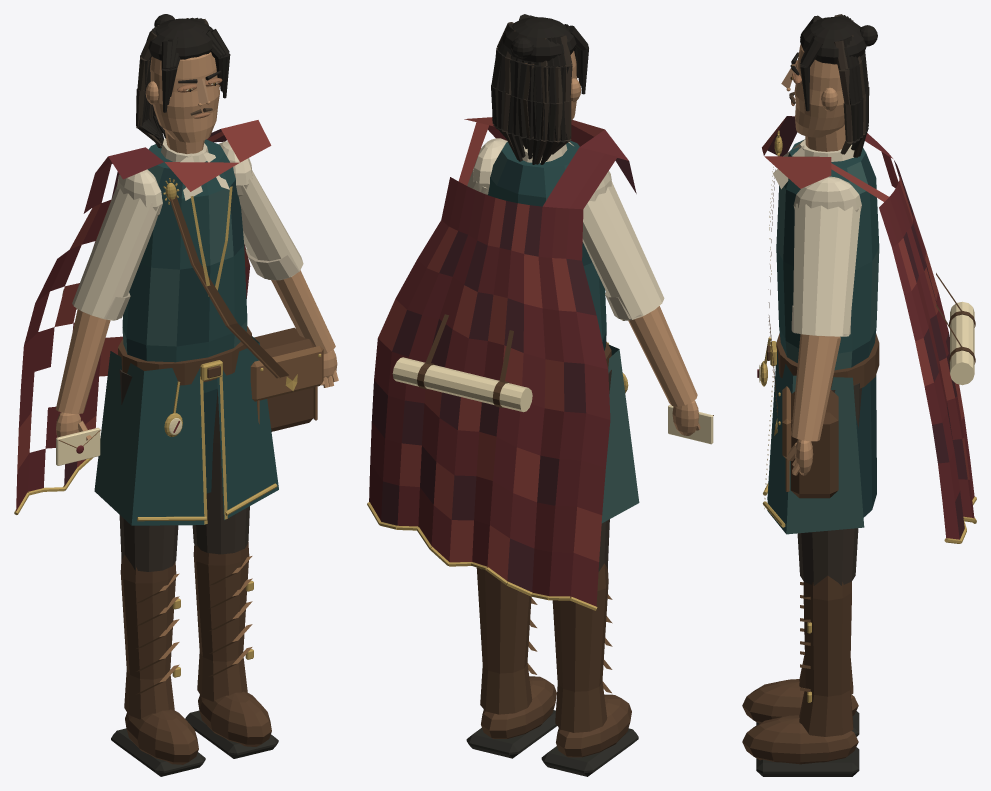
The model's file is human-courier.glb.
3 renders of one model, left to right at view 1: azimuth 30°, elevation 25°; view 2: azimuth 150°, elevation 25°; view 3: azimuth 270°, elevation 25°, orthographic. The views are drawn at different scales.
Visible parts, largest first — view 1: Waistcoat, Split_coat_R, Cloak_folds, Boot_shaft_R, Boot_shaft_L, Split_coat_L, Linen_sleeve_R, Face, Forearm_R, Linen_sleeve_L, Trouser_thigh_L, Boot_toe_R (+15 smaller); view 2: Cloak_folds, Boot_shaft_R, Boot_shaft_L, Linen_sleeve_R, Waistcoat, Split_coat_R, Map_roll, Forearm_R, Boot_toe_R, Boot_toe_L, Hair_crown, Boot_sole_R (+4 smaller); view 3: Cloak_folds, Waistcoat, Linen_sleeve_L, Split_coat_L, Boot_shaft_L, Forearm_L, Boot_toe_L, Trouser_thigh_L, Messenger_satchel, Face, Back_coat, Boot_toe_R (+9 smaller).
Part boxes in pixels (bbox=[...]): Waistcoat: bbox=[122, 139, 247, 392]; Split_coat_R: bbox=[94, 351, 205, 525]; Cloak_folds: bbox=[16, 120, 271, 511]; Boot_shaft_R: bbox=[120, 555, 176, 719]; Boot_shaft_L: bbox=[193, 540, 249, 701]; Split_coat_L: bbox=[217, 336, 278, 520]; Linen_sleeve_R: bbox=[72, 184, 159, 320]; Face: bbox=[150, 52, 219, 142]; Forearm_R: bbox=[55, 309, 110, 413]; Linen_sleeve_L: bbox=[239, 171, 303, 280]; Trouser_thigh_L: bbox=[192, 390, 249, 554]; Boot_toe_R: bbox=[125, 709, 198, 764]; Cloak_folds: bbox=[369, 117, 636, 606]; Boot_shaft_R: bbox=[552, 563, 608, 732]; Boot_shaft_L: bbox=[476, 567, 532, 714]; Linen_sleeve_R: bbox=[582, 181, 664, 320]; Waistcoat: bbox=[488, 140, 606, 350]; Split_coat_R: bbox=[601, 344, 639, 523]; Map_roll: bbox=[392, 357, 532, 412]; Forearm_R: bbox=[628, 306, 697, 406]; Boot_toe_R: bbox=[556, 694, 631, 757]; Boot_toe_L: bbox=[481, 676, 556, 738]; Hair_crown: bbox=[502, 17, 576, 62]; Boot_sole_R: bbox=[541, 728, 638, 776]; Cloak_folds: bbox=[762, 116, 974, 539]; Waistcoat: bbox=[776, 139, 879, 370]; Linen_sleeve_L: bbox=[793, 203, 860, 336]; Split_coat_L: bbox=[767, 351, 864, 534]; Boot_shaft_L: bbox=[799, 575, 853, 736]; Forearm_L: bbox=[791, 334, 840, 441]; Boot_toe_L: bbox=[742, 715, 858, 764]; Trouser_thigh_L: bbox=[797, 383, 861, 585]; Messenger_satchel: bbox=[790, 389, 838, 498]; Face: bbox=[794, 44, 844, 137]; Back_coat: bbox=[856, 375, 876, 517]; Boot_toe_R: bbox=[742, 679, 858, 723].
Size of the model in its own units: 0.7395 by 1.76 by 0.5149.
